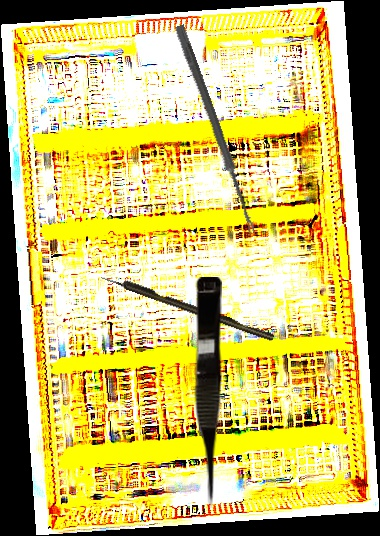Hook Surgical: (100, 271, 275, 343)
Micro Scissor: (192, 277, 222, 508)
Surgical Spoon: (173, 24, 259, 235)
